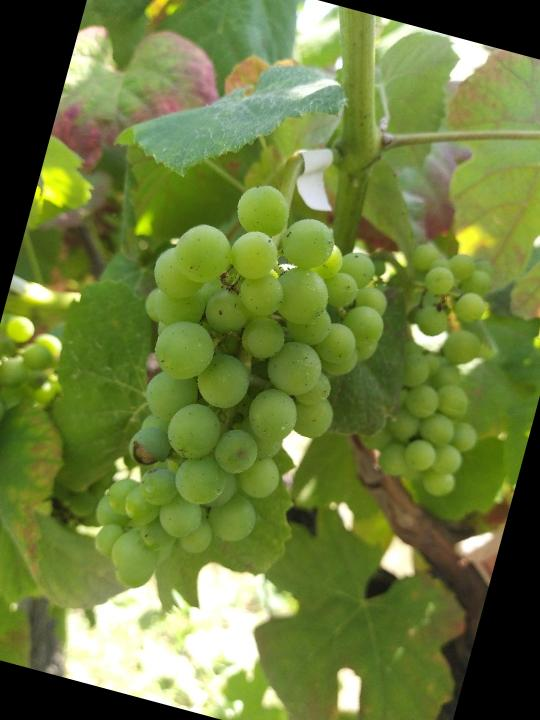grape: (69, 157, 418, 640)
